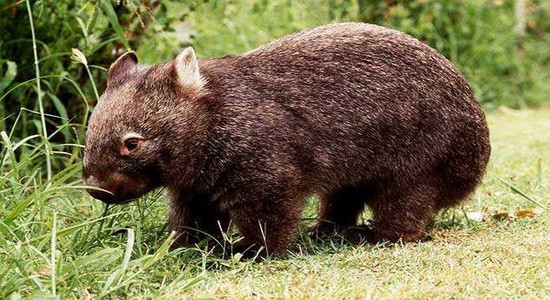Wombat: (81, 21, 492, 262)
